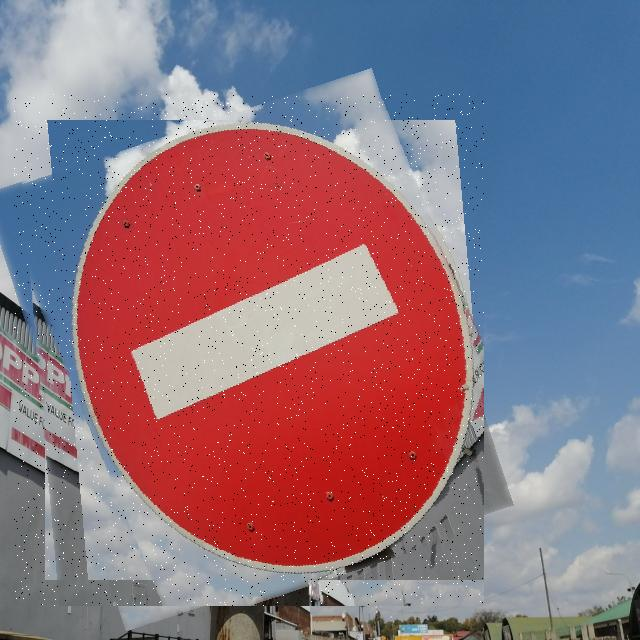no entry: (14, 94, 484, 606)
